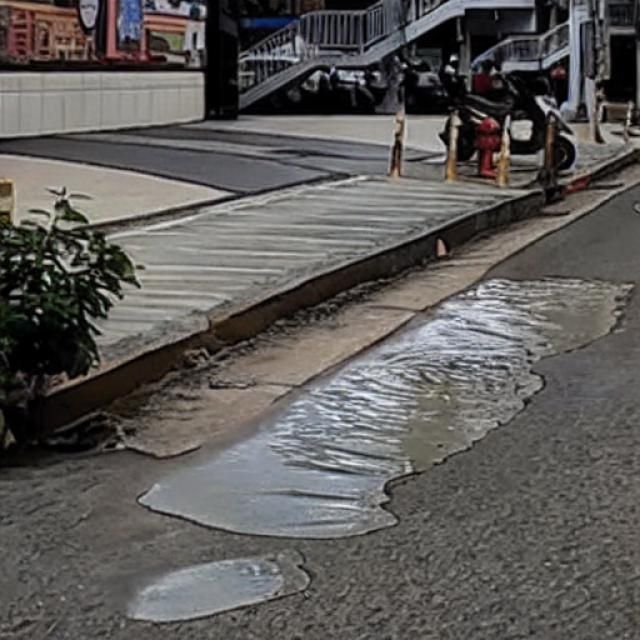puddle: (154, 278, 627, 538)
